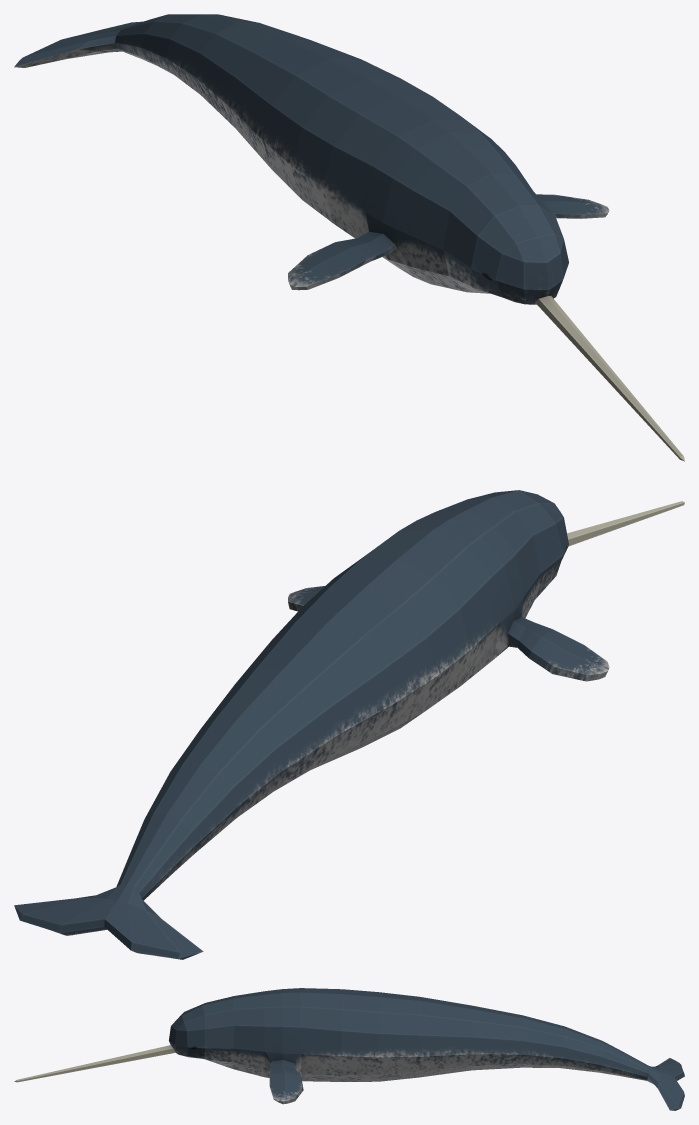
3 views of the same model, one above another, from view 1: azimuth 30°, elevation 25°; view 2: azimuth 150°, elevation 25°; view 3: azimuth 270°, elevation 25° (orthographic). The views are drawn at different scales.
Parts seen in each view (by area): view 1: Narwhal_mesh; view 2: Narwhal_mesh; view 3: Narwhal_mesh.
Boxes of the visible parts, x1,y1,x2,y2 form: Narwhal_mesh: (14,14,684,461); Narwhal_mesh: (14,490,684,959); Narwhal_mesh: (14,988,684,1110).
Size of the model in its own units: 5.05 by 2.62 by 16.22.
1 material, 1 textured.
